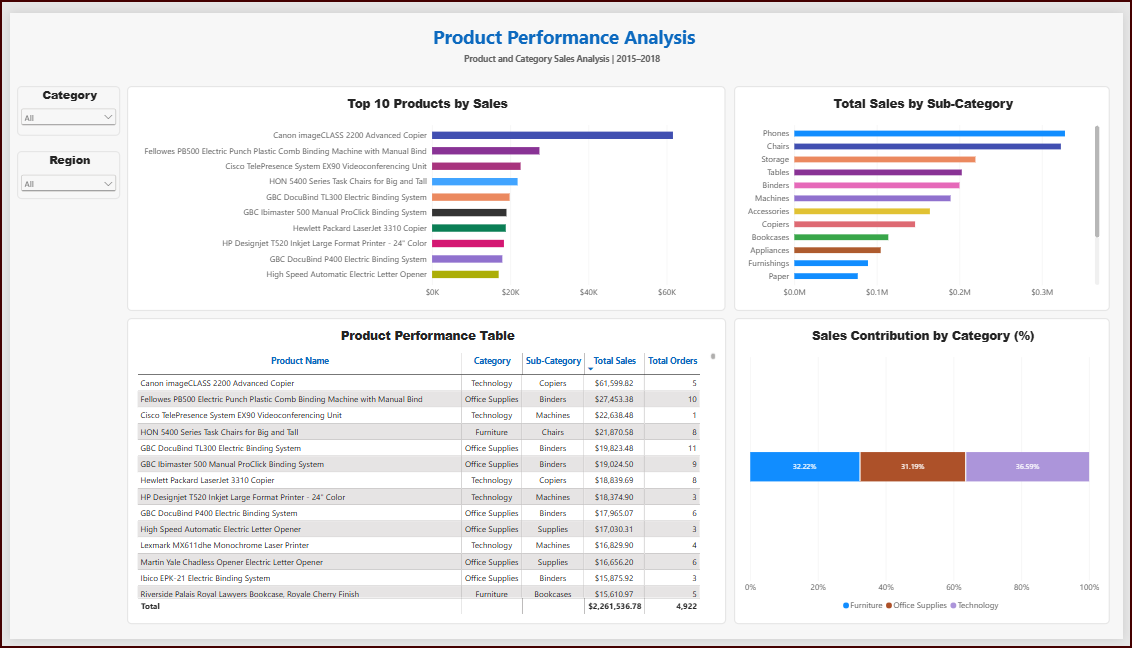

The page's visual inventory and layout, read from the dashboard file:
{"tool":"powerbi","page":{"name":"Product Performance ","canvas":[1920,1080],"ordinal":1},"visuals":[{"type":"textbox","box":[729.3,19,462.3,49.5],"z":0,"group":"g1"},{"type":"textbox","box":[783.6,68.5,351.4,35.4],"z":1,"group":"g1"},{"type":"group","id":"g1","title":"Group 1","box":[729.3,19,462.1,84.5],"z":2},{"type":"clusteredBarChart","title":"Top 10 Products by Sales","fields":{"Category":["train.Product Name"],"Y":["train.Total Sales"]},"box":[201.7,125.9,1031.9,387.5],"z":3},{"type":"clusteredBarChart","fields":{"Category":["train.Sub-Category"],"Y":["train.Total Sales"]},"box":[1248.3,125.9,648.3,387.9],"z":4},{"type":"hundredPercentStackedBarChart","title":"Sales Contribution by Category (%)","fields":{"Series":["train.Category"],"Y":["train.Total Sales"]},"box":[1248.3,525.9,648.3,527.6],"z":5},{"type":"tableEx","title":"Product Performance Table","fields":{"Values":["train.Product Name","train.Category","train.Sub-Category","train.Total Sales","train.Total Orders"]},"box":[201.7,525.9,1032.8,527.6],"z":6},{"type":"slicer","title":"Category","fields":{"Values":["train.Category"]},"box":[12.1,125.9,177.6,86.2],"z":7},{"type":"slicer","title":"Region","fields":{"Values":["train.Region"]},"box":[12.1,237.9,177.6,82.8],"z":8}]}

Visuals, with their boxes in screenshot pixels (x1, y1, x2, y2), scaled from the page's 1920x1080 canvas onto the 1132x648 screenshot:
textbox: l=430, t=11, r=703, b=41
textbox: l=462, t=41, r=669, b=62
"Group 1" group: l=430, t=11, r=702, b=62
"Top 10 Products by Sales" clusteredBarChart: l=119, t=76, r=727, b=308
clusteredBarChart - train.Sub-Category x train.Total Sales: l=736, t=76, r=1118, b=308
"Sales Contribution by Category (%)" hundredPercentStackedBarChart: l=736, t=316, r=1118, b=632
"Product Performance Table" tableEx: l=119, t=316, r=728, b=632
"Category" slicer: l=7, t=76, r=112, b=127
"Region" slicer: l=7, t=143, r=112, b=192
